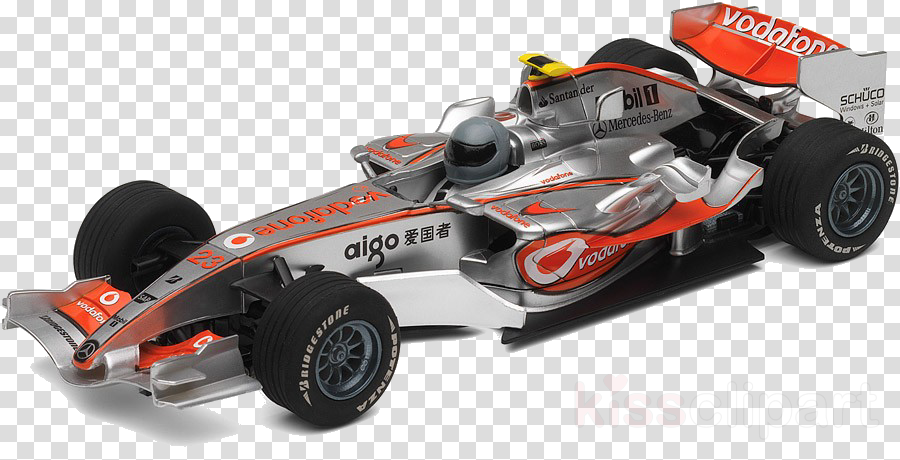f1_car: (1, 1, 900, 440)
